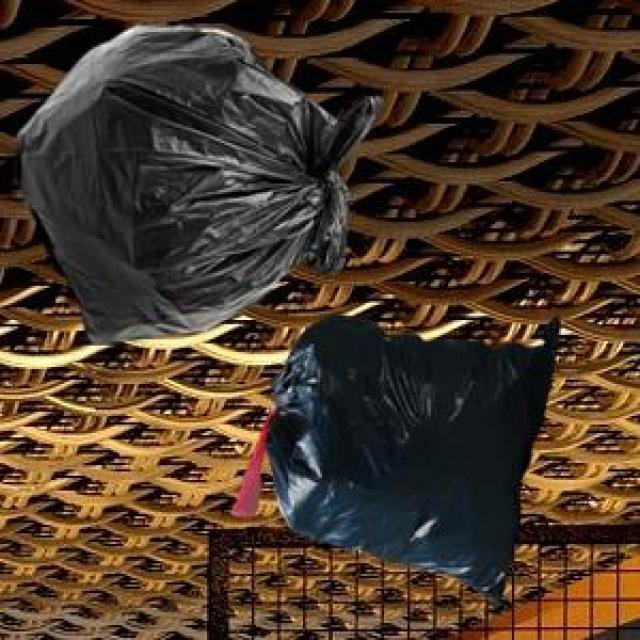waste: (22, 26, 376, 343), (234, 316, 556, 606)
